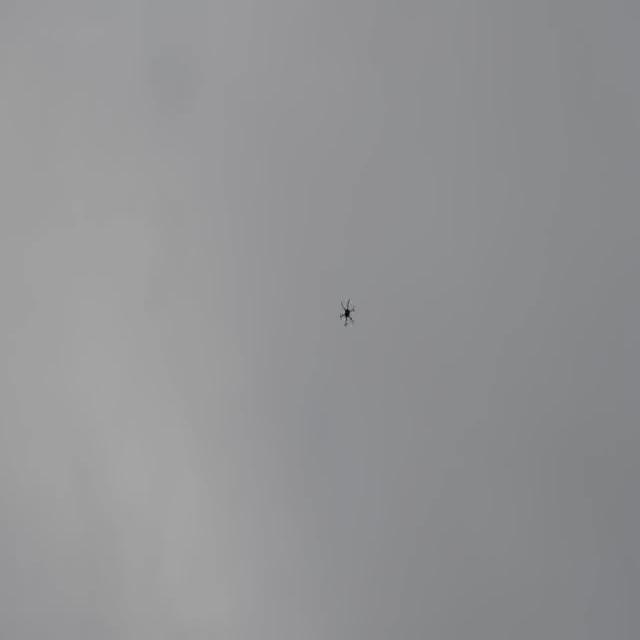drone: (338, 293, 356, 327)
